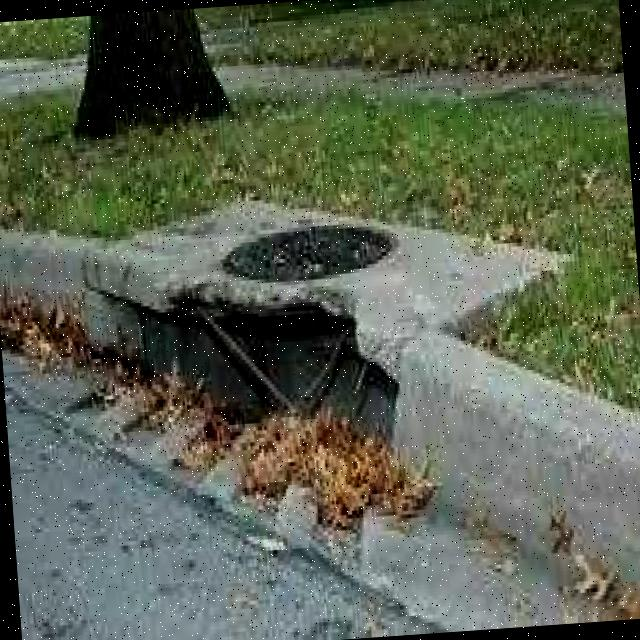curb: (243, 268, 640, 633), (2, 210, 241, 463)
